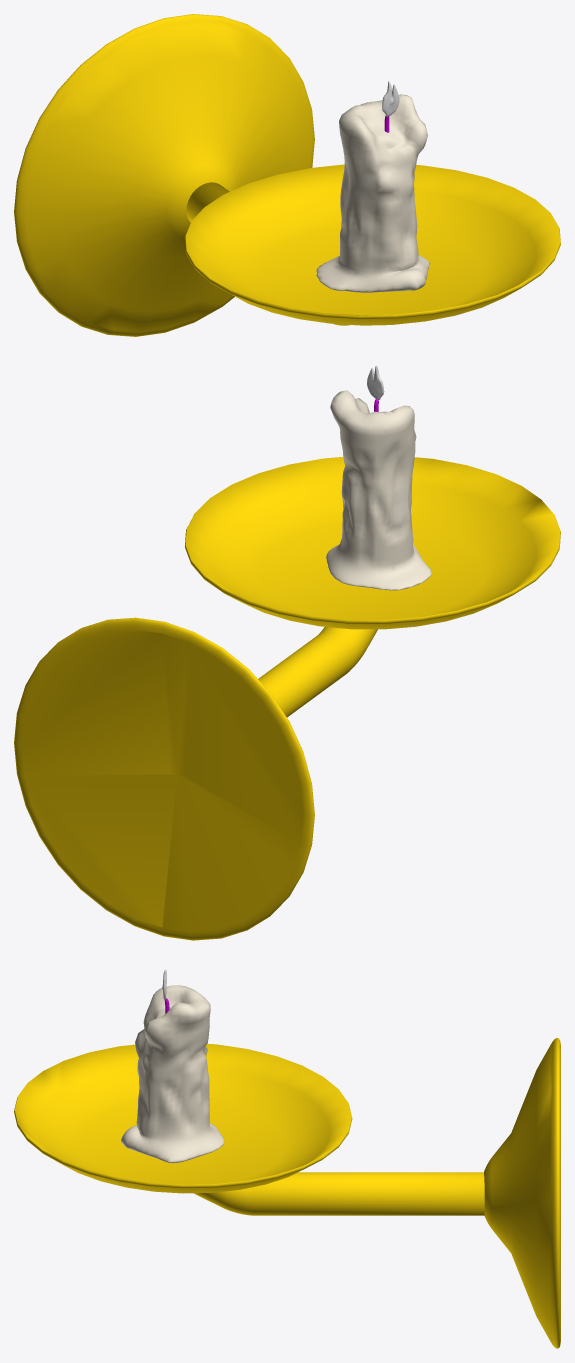
Rendered from Candle.fbx.
3 views of the same model, one above another, from view 1: azimuth 30°, elevation 25°; view 2: azimuth 150°, elevation 25°; view 3: azimuth 270°, elevation 25° (orthographic). The views are drawn at different scales.
Parts seen in each view (by area): view 1: Circle, Circle.002, Plane; view 2: Circle, Circle.002; view 3: Circle, Circle.002.
Boxes of the visible parts, x1=… form: Circle: x1=14, y1=14, x2=560, y2=336; Circle.002: x1=316, y1=94, x2=430, y2=292; Plane: x1=382, y1=81, x2=399, y2=116; Circle: x1=14, y1=457, x2=560, y2=940; Circle.002: x1=326, y1=390, x2=431, y2=590; Circle: x1=14, y1=1038, x2=560, y2=1348; Circle.002: x1=121, y1=985, x2=224, y2=1163.
Bounding box in the file's own units: 202 × 242 × 326.
